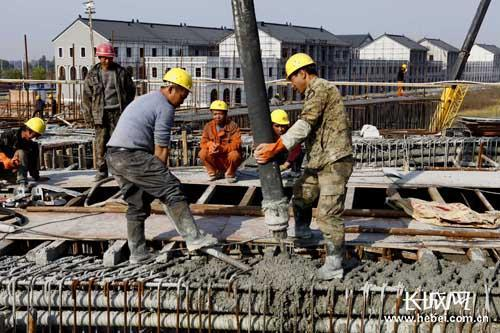helmet: (281, 50, 321, 92), (159, 64, 195, 106), (267, 105, 291, 139), (208, 95, 231, 127), (93, 37, 115, 70), (20, 115, 48, 140)
